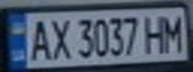0: (90, 15, 109, 58)
3: (72, 15, 93, 60), (109, 15, 127, 57)
7: (121, 13, 142, 55)
A: (24, 16, 54, 62)
H: (142, 11, 169, 54)
M: (160, 11, 190, 53)
X: (45, 15, 72, 61)
